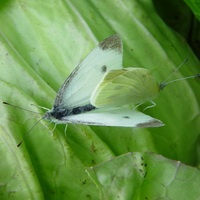insect: (28, 34, 163, 132)
